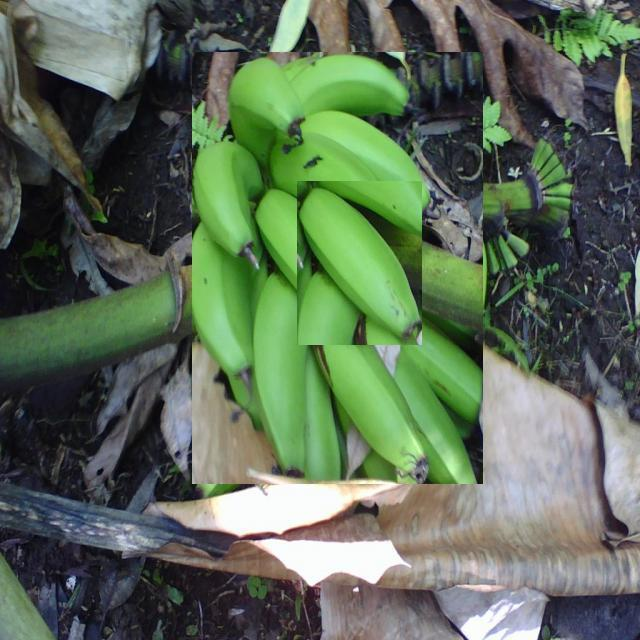Banana: (192, 52, 483, 484)
